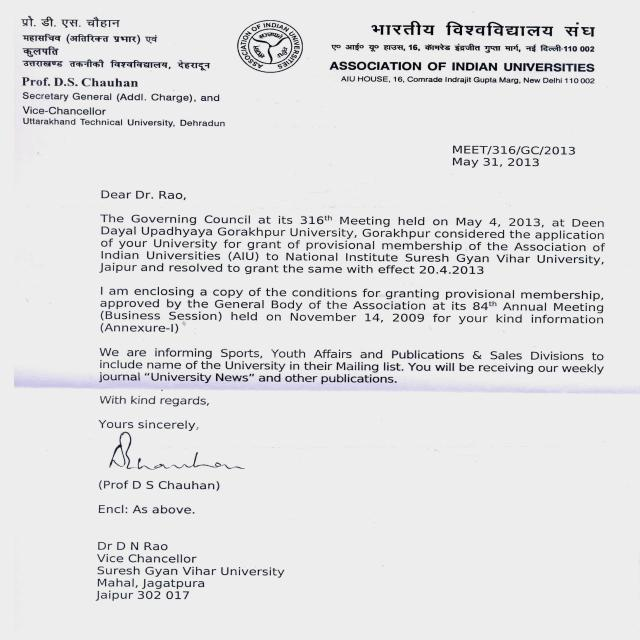signature: (97, 426, 249, 474)
